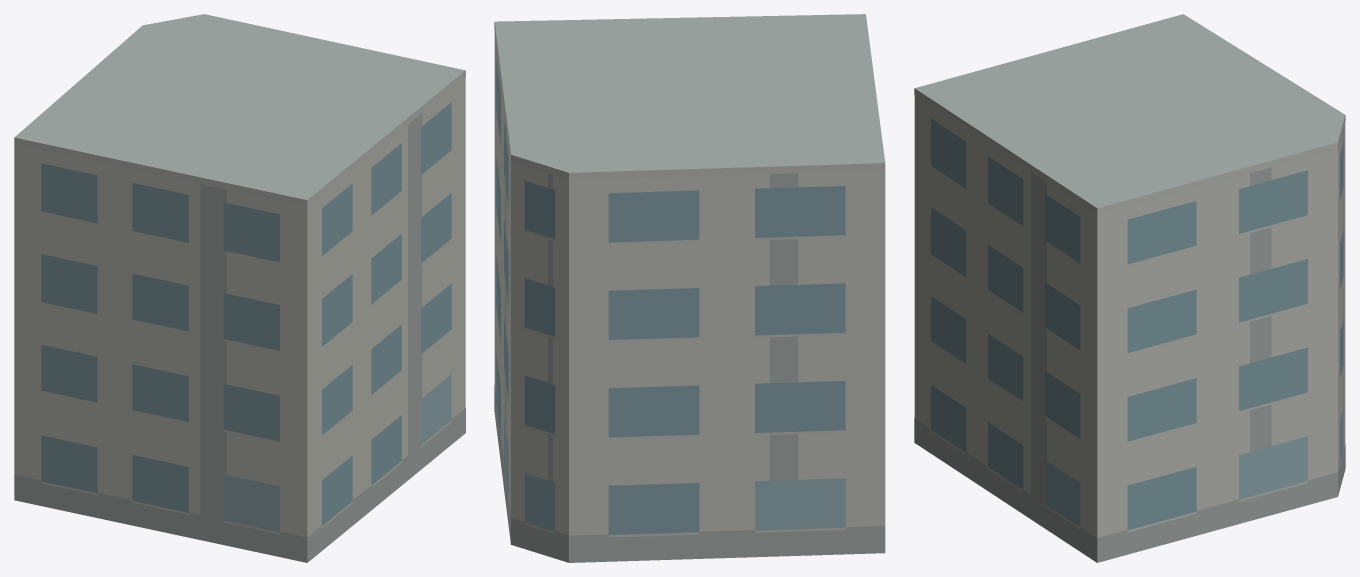
Rendered from residential-33ede0fe-1bc7-46d7-a60d-a4f82ca7aeeb.glb.
The picture shows the model from 3 angles, left to right: view 1: azimuth 30°, elevation 25°; view 2: azimuth 150°, elevation 25°; view 3: azimuth 270°, elevation 25°; orthographic projection. The views are drawn at different scales.
Visible parts, largest first — view 1: residential-33ede0fe-1bc7-46d7-a60d-a4f82ca7aeeb.tmp; view 2: residential-33ede0fe-1bc7-46d7-a60d-a4f82ca7aeeb.tmp; view 3: residential-33ede0fe-1bc7-46d7-a60d-a4f82ca7aeeb.tmp.
Part boxes in pixels (<box>): residential-33ede0fe-1bc7-46d7-a60d-a4f82ca7aeeb.tmp: <box>14,14,465,562</box>; residential-33ede0fe-1bc7-46d7-a60d-a4f82ca7aeeb.tmp: <box>494,14,885,562</box>; residential-33ede0fe-1bc7-46d7-a60d-a4f82ca7aeeb.tmp: <box>914,14,1345,562</box>.
Bounding box in the file's own units: 15.06 × 12.8 × 14.1.
